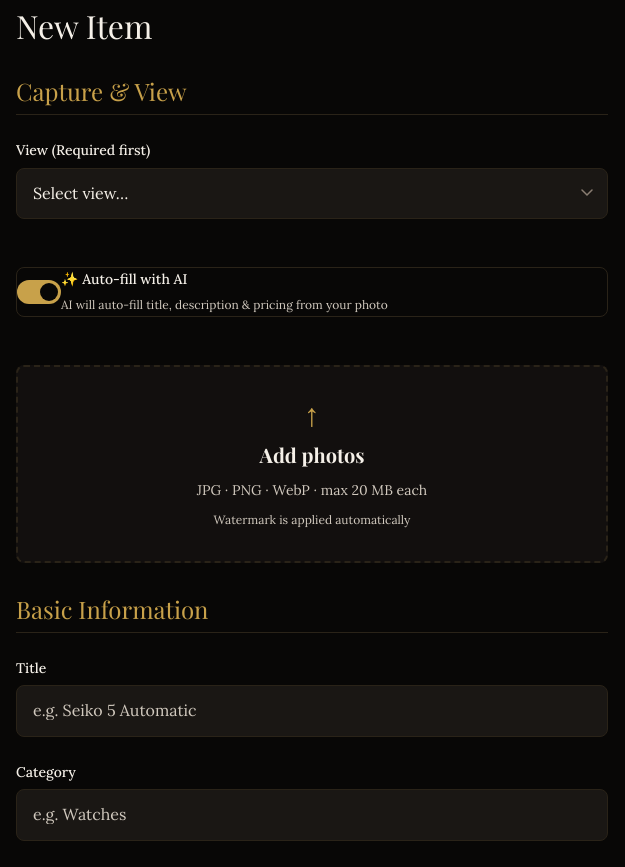
Test case: IntakeForm › shows correct helper text based on toggle state
Expected: the text "AI will auto-fill title, description & pricing from your photo" is shown, [61,297,388,312]
Click the switch named "use ai to auto-fill form fields and pricing from photo". click: (39,292)
box: [17,280,61,304]
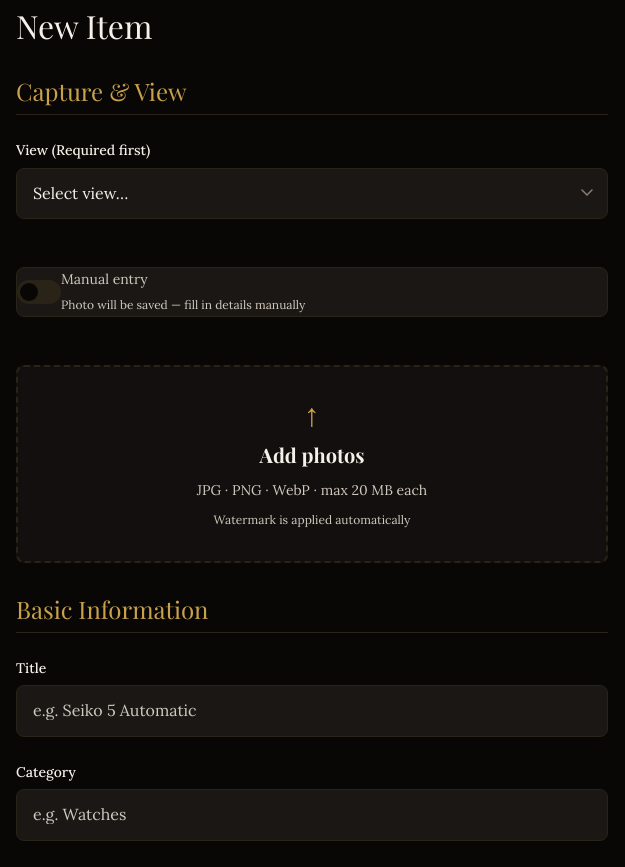
Expected: the text "Photo will be saved — fill in details manually" is shown, [61,297,305,312]
